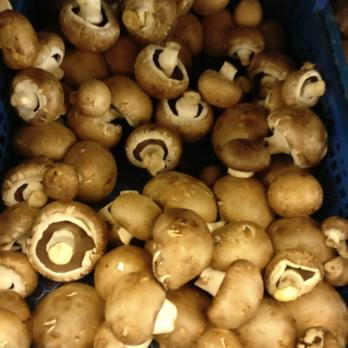Mushroom: (1, 0, 212, 348), (209, 0, 342, 348)
